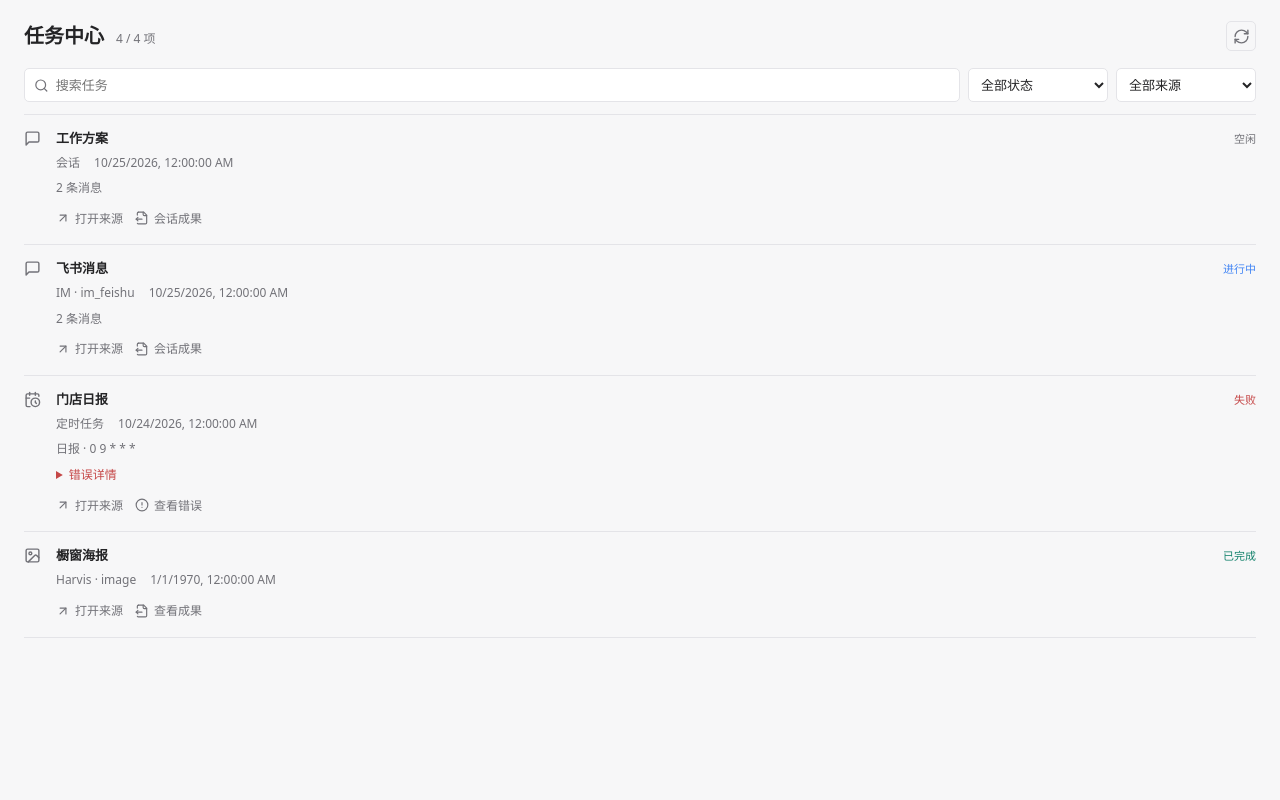
Test case: TaskCenter standalone page › reloads session artifacts when reopened instead of caching an empty result forever
Click the button "会话成果" below "工作方案" at coordinates (168, 218), box [135, 205, 202, 231]
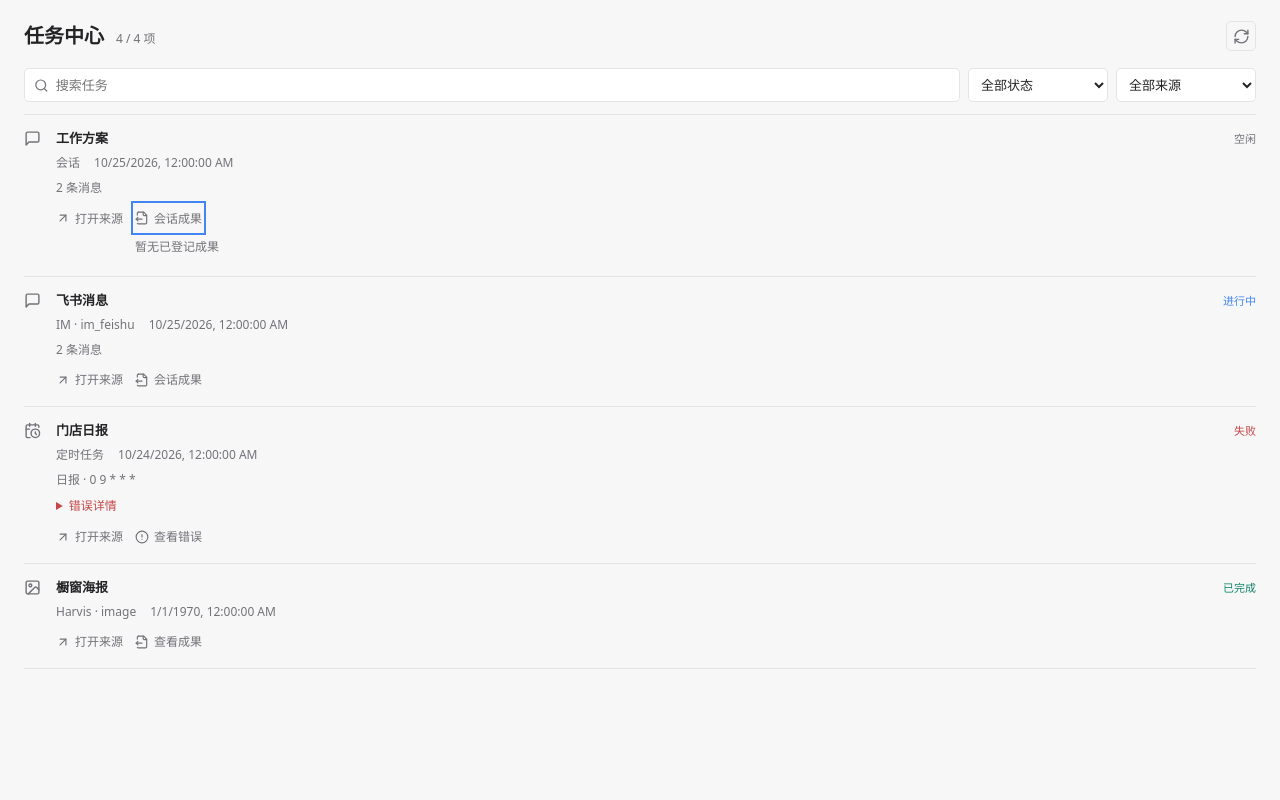
Check: the text "暂无已登记成果" is shown, box [135, 237, 219, 257]
Click the button "会话成果" below "工作方案" at coordinates (168, 218), box [135, 205, 202, 231]
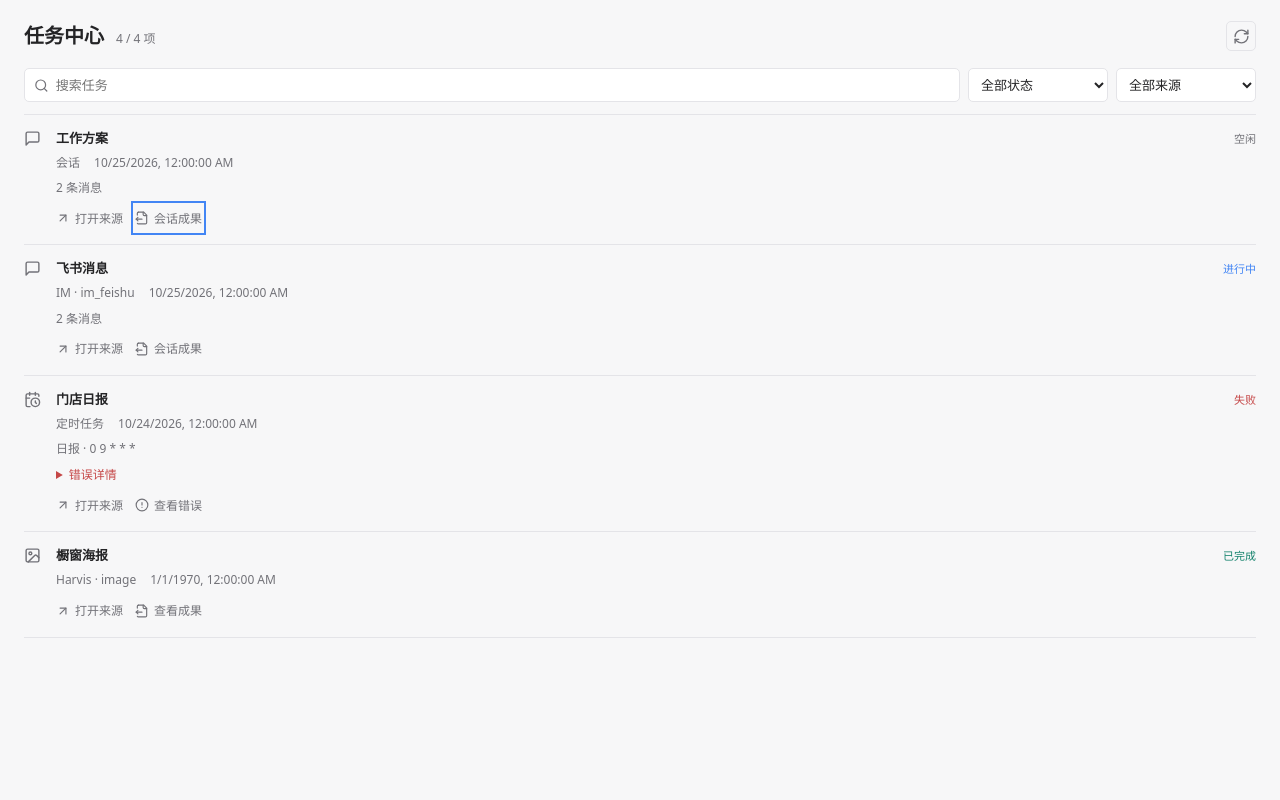
Click the button "会话成果" below "工作方案" at coordinates (168, 218), box [135, 205, 202, 231]
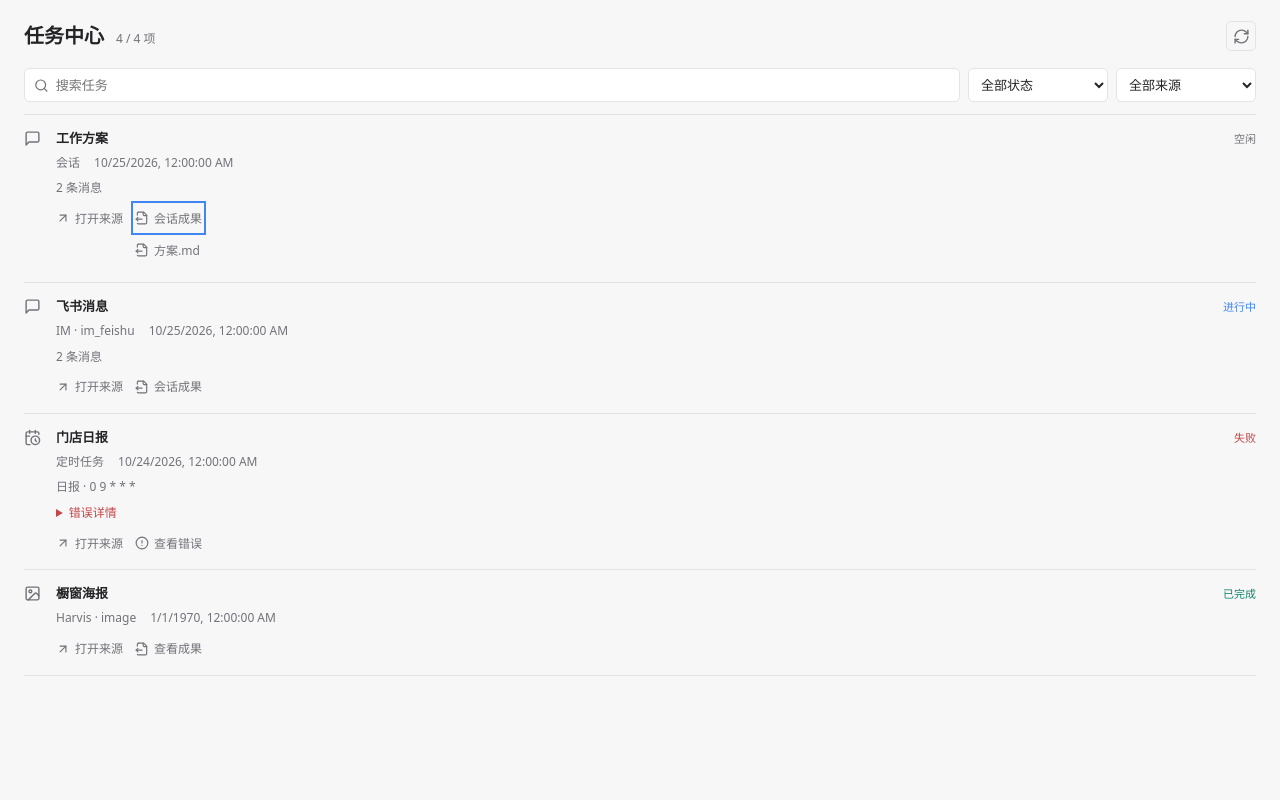
Check: the button "方案.md" is shown, box [135, 237, 200, 263]
